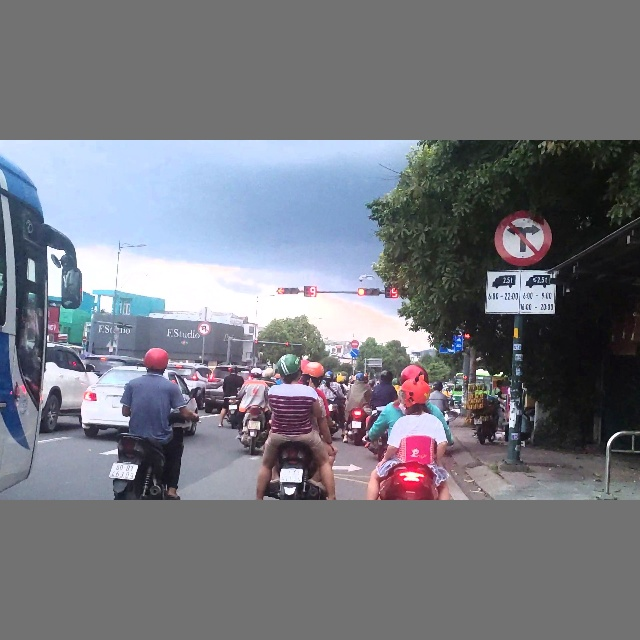P.102: (350, 339, 359, 348)
P.124a*: (198, 322, 211, 335)
P.137: (494, 209, 553, 268)
R.302a: (350, 348, 359, 358)
S.505a*Xe tai: (485, 268, 556, 316)
